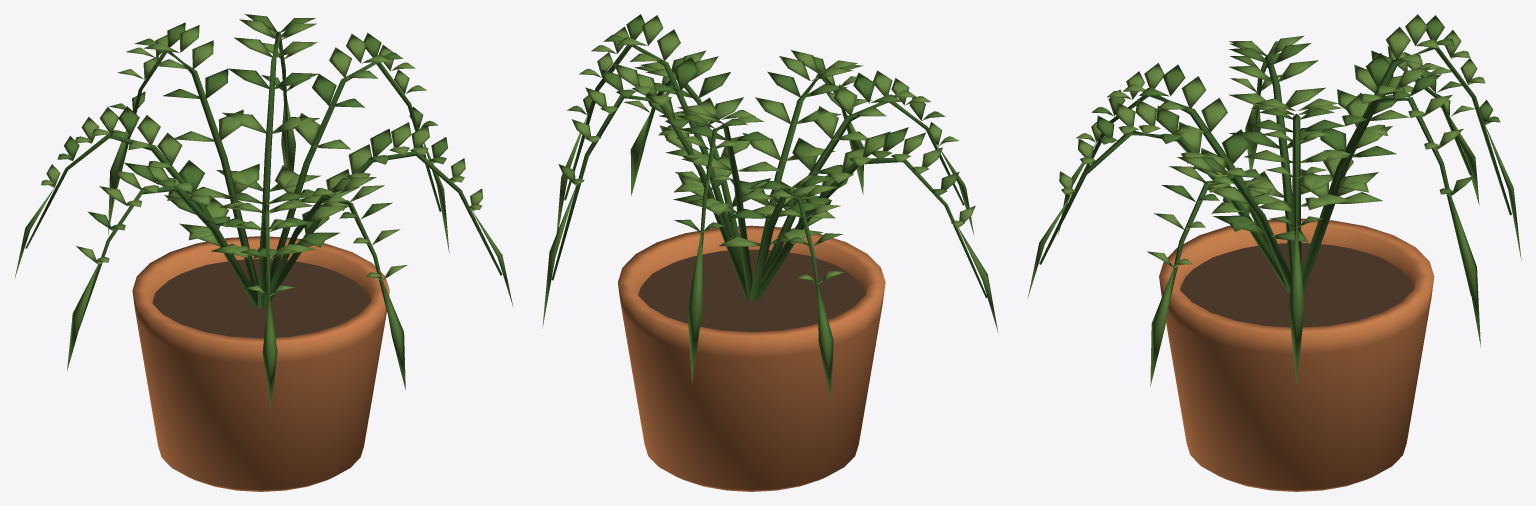
The model's file is fern.glb.
The picture shows the model from 3 angles, left to right: view 1: azimuth 30°, elevation 25°; view 2: azimuth 150°, elevation 25°; view 3: azimuth 270°, elevation 25°; orthographic projection. The views are drawn at different scales.
Visible parts, largest first — view 1: fern_pot, fern_soil, fern_frond_6, fern_frond_0, fern_frond_4, fern_frond_3, fern_frond_5, fern_frond_2, fern_frond_1, fern_frond_tip_7, fern_frond_7, fern_frond_tip_2 (+2 smaller); view 2: fern_pot, fern_soil, fern_frond_3, fern_frond_4, fern_frond_0, fern_frond_6, fern_frond_7, fern_frond_1, fern_frond_tip_6, fern_frond_2, fern_frond_tip_1, fern_frond_5 (+3 smaller); view 3: fern_pot, fern_soil, fern_frond_3, fern_frond_2, fern_frond_5, fern_frond_6, fern_frond_4, fern_frond_tip_0, fern_frond_0, fern_frond_7, fern_frond_tip_5, fern_frond_tip_3 (+2 smaller).
Boxes of the visible parts, x1,y1,x2,y2 form: fern_pot: (132,236,389,491); fern_soil: (152,259,369,338); fern_frond_6: (115,50,258,295); fern_frond_0: (265,62,441,292); fern_frond_4: (79,186,257,328); fern_frond_3: (261,31,289,284); fern_frond_5: (266,151,502,306); fern_frond_2: (264,194,387,312); fern_frond_1: (25,134,235,274); fern_frond_tip_7: (262,293,277,409); fern_frond_7: (257,202,270,308); fern_frond_tip_2: (381,278,405,389); fern_pot: (618,225,885,491); fern_soil: (638,249,864,331); fern_frond_3: (551,94,748,299); fern_frond_4: (757,158,987,299); fern_frond_0: (564,45,744,273); fern_frond_6: (700,124,752,300); fern_frond_7: (762,102,964,278); fern_frond_1: (750,189,818,300); fern_frond_tip_6: (687,227,702,384); fern_frond_2: (752,71,854,281); fern_frond_tip_1: (817,280,833,401); fern_frond_5: (636,79,742,261); fern_pot: (1159,218,1434,491); fern_soil: (1180,243,1413,327); fern_frond_3: (1301,97,1471,295); fern_frond_2: (1039,131,1289,292); fern_frond_5: (1169,175,1291,301); fern_frond_6: (1304,47,1511,290); fern_frond_4: (1251,54,1292,274); fern_frond_tip_0: (1288,224,1304,384); fern_frond_0: (1292,113,1301,268); fern_frond_7: (1083,95,1270,248); fern_frond_tip_5: (1150,264,1175,386); fern_frond_tip_3: (1450,196,1480,347).
Size of the model in its own units: 0.834 by 0.745 by 0.8262.
